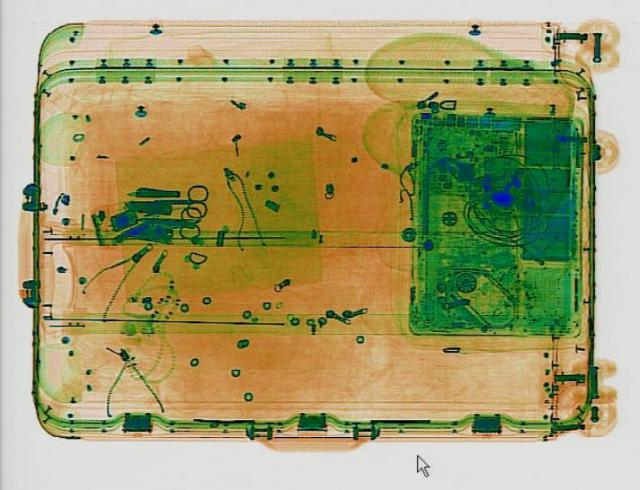Scissors: (141, 184, 209, 216), (140, 208, 200, 235)
